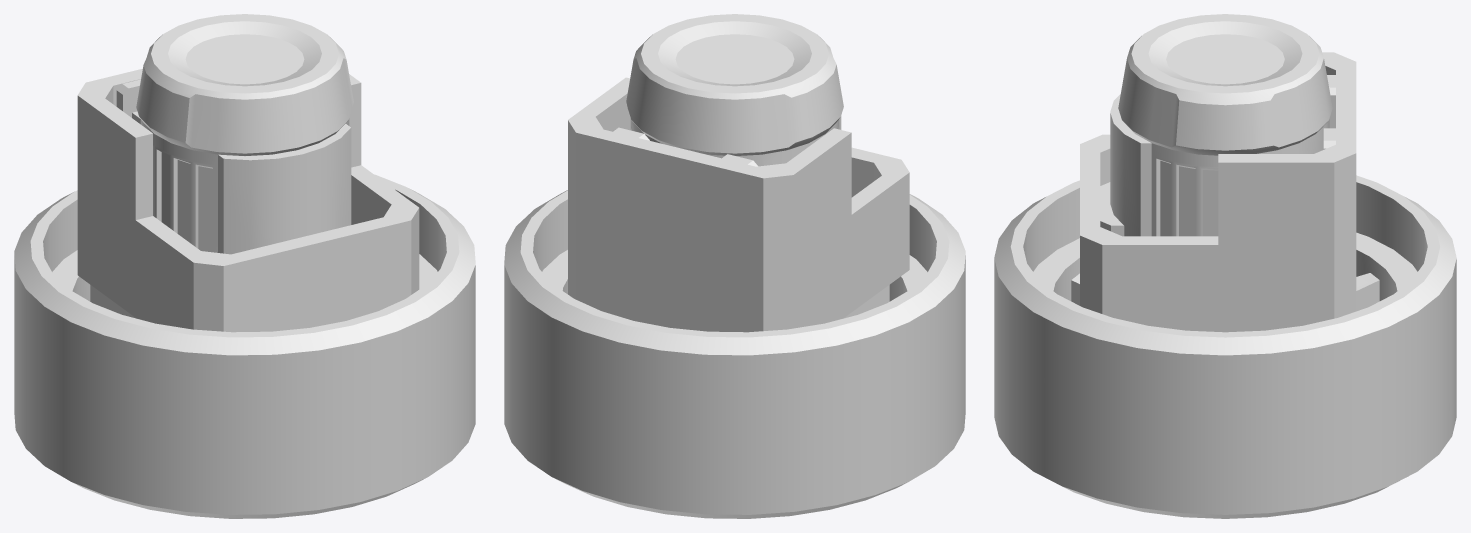
Rendered from MotorisedWheel.fbx.
3 views of the same model, side by side, from view 1: azimuth 30°, elevation 25°; view 2: azimuth 150°, elevation 25°; view 3: azimuth 270°, elevation 25° (orthographic).
Visible parts, largest first — view 1: MotorisedWheel; view 2: MotorisedWheel; view 3: MotorisedWheel.
Boxes of the visible parts, <box> form: MotorisedWheel: <box>14,14,475,518</box>; MotorisedWheel: <box>504,14,965,518</box>; MotorisedWheel: <box>994,14,1456,518</box>.
Bounding box in the file's own units: 76.56 × 68.41 × 76.56.
